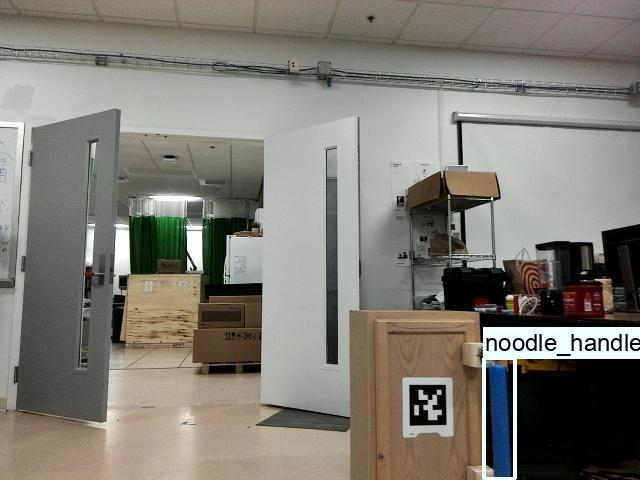noodle_handle: (485, 359, 513, 480)
